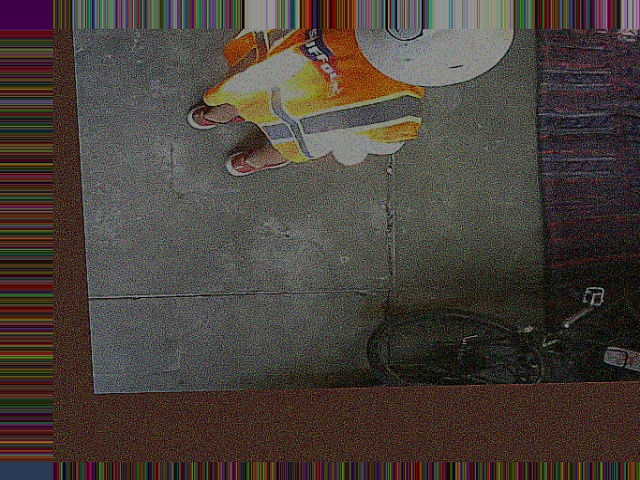two: (382, 0, 425, 41)
